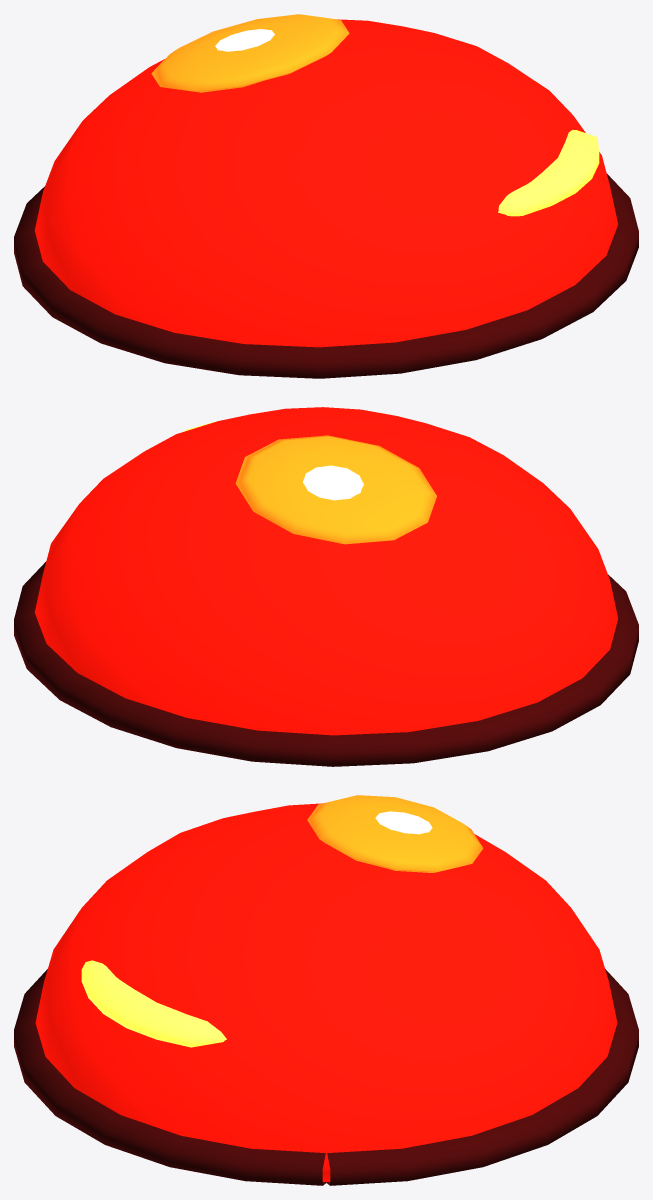
The model's file is newsha-199.glb.
The picture shows the model from 3 angles, top to bottom: view 1: azimuth 30°, elevation 25°; view 2: azimuth 150°, elevation 25°; view 3: azimuth 270°, elevation 25°; orthographic projection. The views are drawn at different scales.
Parts seen in each view (by area): view 1: newsha-199; view 2: newsha-199; view 3: newsha-199.
Part boxes in pixels (x1,y1,x2,y2): newsha-199: (14,14,638,378); newsha-199: (14,407,638,766); newsha-199: (14,795,638,1185).
Size of the model in its own units: 1.6 by 0.5896 by 1.51.
